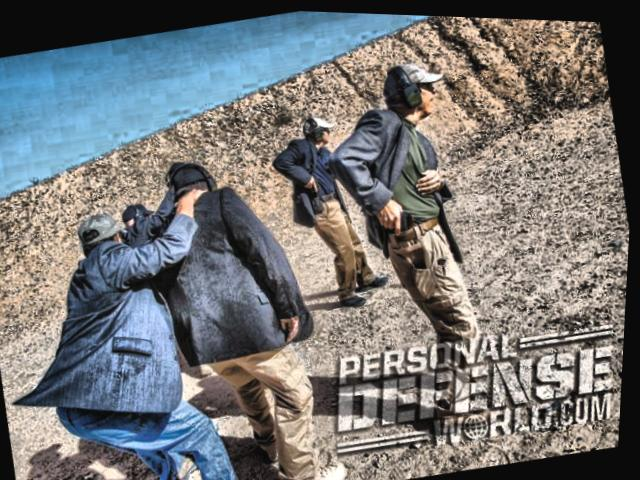pistol: (379, 202, 417, 237), (304, 170, 325, 196)
